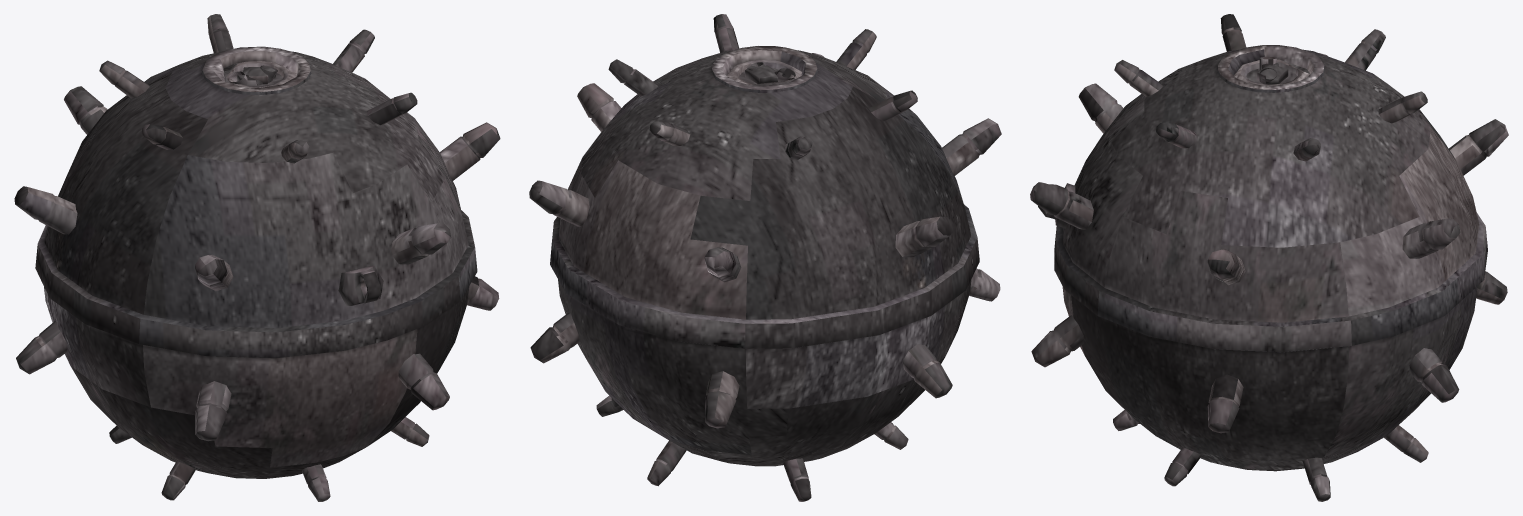
Rendered from WaterBomb.fbx.
3 views of the same model, side by side, from view 1: azimuth 30°, elevation 25°; view 2: azimuth 150°, elevation 25°; view 3: azimuth 270°, elevation 25° (orthographic). The views are drawn at different scales.
Parts seen in each view (by area): view 1: 16943_Boat_Mine_v1.006; view 2: 16943_Boat_Mine_v1.006; view 3: 16943_Boat_Mine_v1.006.
Boxes of the visible parts, left/top/right/bottom form: 16943_Boat_Mine_v1.006: left=14, top=14, right=500, bottom=501; 16943_Boat_Mine_v1.006: left=529, top=14, right=1001, bottom=501; 16943_Boat_Mine_v1.006: left=1030, top=14, right=1508, bottom=501.
Size of the model in its own units: 6990 by 6056 by 6810.
1 material, 1 textured.
